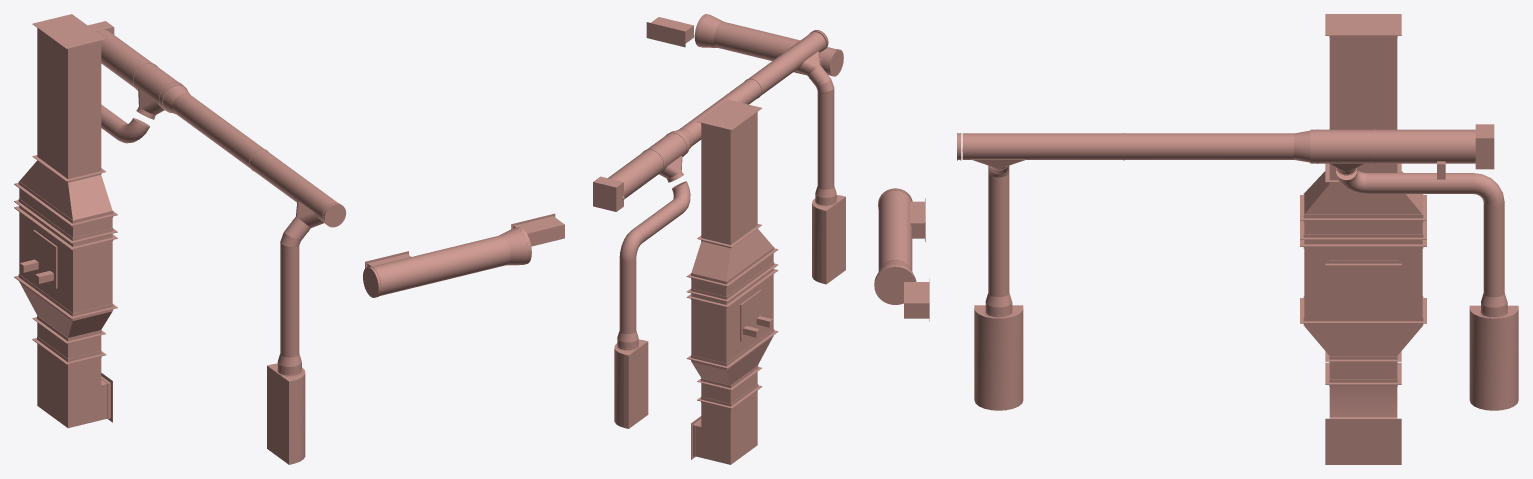
The model's file is HULDRA-HA-HVAC.gltf.
3 views of the same model, side by side, from view 1: azimuth 30°, elevation 25°; view 2: azimuth 150°, elevation 25°; view 3: azimuth 270°, elevation 25° (orthographic). The views are drawn at different scales.
Parts seen in each view (by area): view 1: STRT_1_of_BRANCH_/20-A-00-272_Mesh.2048, STRT_2_of_BRANCH_/20-A-00-272-B_Mesh.2054, /20-A-00-272-2_Mesh.2050, /18-C-00-068-1_Mesh.2018, TAPER_1_of_BRANCH_/20-A-00-272-B_Mesh.2052, BOX_1_of_EQUIPMENT_/77-GT55A_Mesh.2063, /05-C-00-232-2_Mesh.2029, /05-C-00-228-3_Mesh.2045, TAPER_2_of_BRANCH_/20-A-00-272-B_Mesh.2056, STRT_1_of_BRANCH_/20-A-00-272-B_Mesh.2053, /20-A-00-272-12_Mesh.2049, /05-C-00-227-2_Mesh.2022 (+8 smaller); view 2: STRT_1_of_BRANCH_/20-A-00-272_Mesh.2048, STRT_2_of_BRANCH_/20-A-00-272-B_Mesh.2054, /20-A-00-272-2_Mesh.2050, TAPER_1_of_BRANCH_/20-A-00-272-B_Mesh.2052, /18-C-00-068-1_Mesh.2018, BOX_1_of_EQUIPMENT_/77-GT55B_Mesh.2066, BOX_1_of_EQUIPMENT_/77-GT55A_Mesh.2063, /05-C-00-228-3_Mesh.2045, TAPER_2_of_BRANCH_/20-A-00-272-B_Mesh.2056, STRT_1_of_BRANCH_/20-A-00-272-B_Mesh.2053, /05-C-00-227-2_Mesh.2022, Cylinder.002_Mesh.2039 (+19 smaller); view 3: STRT_1_of_BRANCH_/20-A-00-272_Mesh.2048, STRT_2_of_BRANCH_/20-A-00-272-B_Mesh.2054, /20-A-00-272-2_Mesh.2050, RTORUS_1_of_EQUIPMENT_/77-GT55A_Mesh.2062, RTORUS_1_of_EQUIPMENT_/77-GT55B_Mesh.2065, /05-C-00-232-2_Mesh.2029, /20-A-00-272-12_Mesh.2049, /05-C-00-227-2_Mesh.2022, TAPER_1_of_BRANCH_/20-A-00-272-B_Mesh.2052, /05-C-00-232-4_Mesh.2031, /05-C-00-228-3_Mesh.2045, STRT_1_of_BRANCH_/20-A-00-272-B_Mesh.2053 (+10 smaller).
Boxes of the visible parts, left/top/right/bottom form: STRT_1_of_BRANCH_/20-A-00-272_Mesh.2048: left=32, top=14, right=106, bottom=178; STRT_2_of_BRANCH_/20-A-00-272-B_Mesh.2054: left=14, top=208, right=117, bottom=318; /20-A-00-272-2_Mesh.2050: left=33, top=340, right=112, bottom=428; /18-C-00-068-1_Mesh.2018: left=363, top=236, right=509, bottom=297; TAPER_1_of_BRANCH_/20-A-00-272-B_Mesh.2052: left=14, top=155, right=117, bottom=225; BOX_1_of_EQUIPMENT_/77-GT55A_Mesh.2063: left=267, top=364, right=294, bottom=464; /05-C-00-232-2_Mesh.2029: left=174, top=93, right=263, bottom=167; /05-C-00-228-3_Mesh.2045: left=280, top=248, right=299, bottom=357; TAPER_2_of_BRANCH_/20-A-00-272-B_Mesh.2056: left=14, top=277, right=117, bottom=343; STRT_1_of_BRANCH_/20-A-00-272-B_Mesh.2053: left=14, top=184, right=117, bottom=243; /20-A-00-272-12_Mesh.2049: left=32, top=322, right=106, bottom=364; /05-C-00-227-2_Mesh.2022: left=97, top=30, right=151, bottom=87; STRT_1_of_BRANCH_/20-A-00-272_Mesh.2048: left=697, top=99, right=761, bottom=244; STRT_2_of_BRANCH_/20-A-00-272-B_Mesh.2054: left=687, top=271, right=777, bottom=368; /20-A-00-272-2_Mesh.2050: left=691, top=387, right=761, bottom=464; TAPER_1_of_BRANCH_/20-A-00-272-B_Mesh.2052: left=687, top=224, right=778, bottom=286; /18-C-00-068-1_Mesh.2018: left=714, top=22, right=843, bottom=76; BOX_1_of_EQUIPMENT_/77-GT55B_Mesh.2066: left=624, top=340, right=648, bottom=428; BOX_1_of_EQUIPMENT_/77-GT55A_Mesh.2063: left=821, top=195, right=845, bottom=284; /05-C-00-228-3_Mesh.2045: left=817, top=93, right=834, bottom=189; TAPER_2_of_BRANCH_/20-A-00-272-B_Mesh.2056: left=688, top=332, right=777, bottom=390; STRT_1_of_BRANCH_/20-A-00-272-B_Mesh.2053: left=687, top=250, right=778, bottom=301; /05-C-00-227-2_Mesh.2022: left=608, top=150, right=663, bottom=199; Cylinder.002_Mesh.2039: left=619, top=259, right=636, bottom=334; STRT_1_of_BRANCH_/20-A-00-272_Mesh.2048: left=1325, top=14, right=1401, bottom=265; STRT_2_of_BRANCH_/20-A-00-272-B_Mesh.2054: left=1300, top=246, right=1426, bottom=323; /20-A-00-272-2_Mesh.2050: left=1325, top=384, right=1401, bottom=464; RTORUS_1_of_EQUIPMENT_/77-GT55A_Mesh.2062: left=974, top=308, right=1023, bottom=410; RTORUS_1_of_EQUIPMENT_/77-GT55B_Mesh.2065: left=1469, top=308, right=1518, bottom=410; /05-C-00-232-2_Mesh.2029: left=1124, top=133, right=1293, bottom=159; /20-A-00-272-12_Mesh.2049: left=1325, top=265, right=1401, bottom=384; /05-C-00-227-2_Mesh.2022: left=1375, top=129, right=1475, bottom=163; TAPER_1_of_BRANCH_/20-A-00-272-B_Mesh.2052: left=1300, top=163, right=1426, bottom=220; /05-C-00-232-4_Mesh.2031: left=1023, top=133, right=1123, bottom=159; /05-C-00-228-3_Mesh.2045: left=988, top=176, right=1009, bottom=296; STRT_1_of_BRANCH_/20-A-00-272-B_Mesh.2053: left=1300, top=220, right=1426, bottom=239.
Size of the model in its own units: 4.97 by 5.55 by 7.61.
